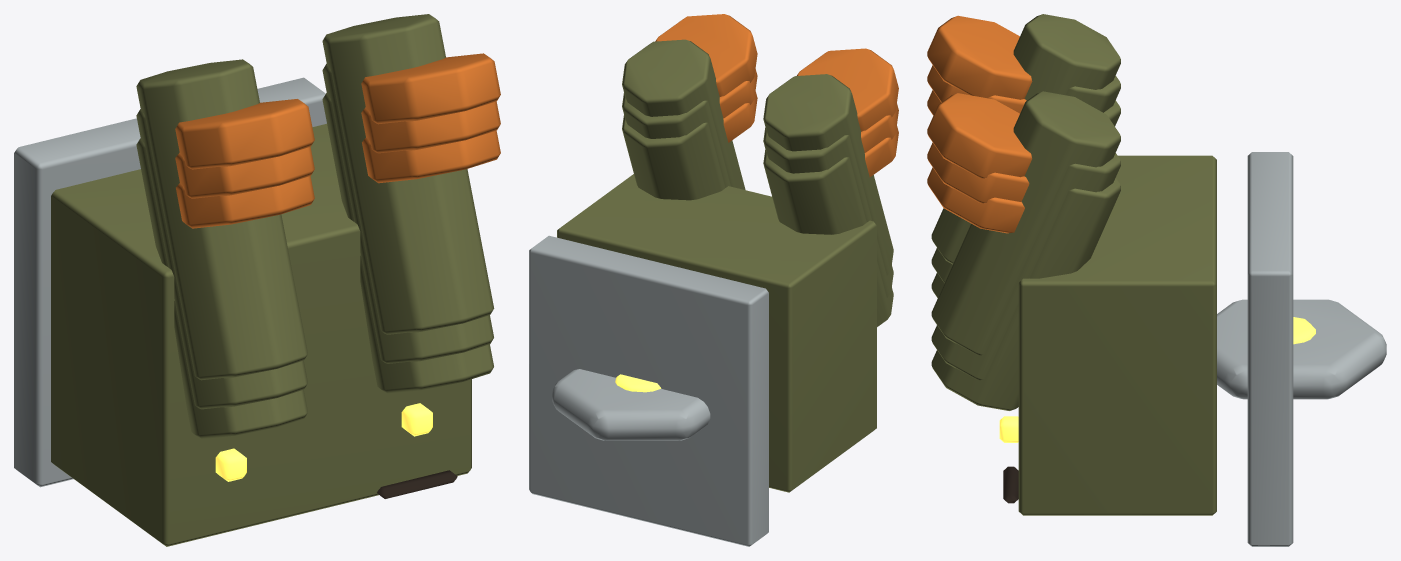
The model's file is quivergear_volley_pod.glb.
3 views of the same model, side by side, from view 1: azimuth 30°, elevation 25°; view 2: azimuth 150°, elevation 25°; view 3: azimuth 270°, elevation 25° (orthographic). The views are drawn at different scales.
Parts seen in each view (by area): view 1: quivergear_volley_pod; view 2: quivergear_volley_pod; view 3: quivergear_volley_pod.
Part boxes in pixels (x1,y1,x2,y2): quivergear_volley_pod: (14, 14, 500, 546); quivergear_volley_pod: (529, 14, 898, 546); quivergear_volley_pod: (927, 14, 1386, 546).
Bounding box in the file's own units: 0.4 × 0.6154 × 0.6024.
1 material, 1 textured.
